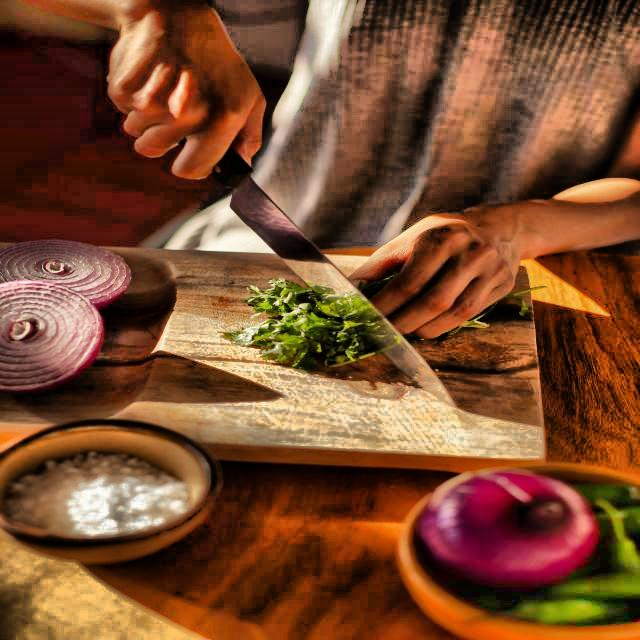knife: (184, 123, 438, 400)
